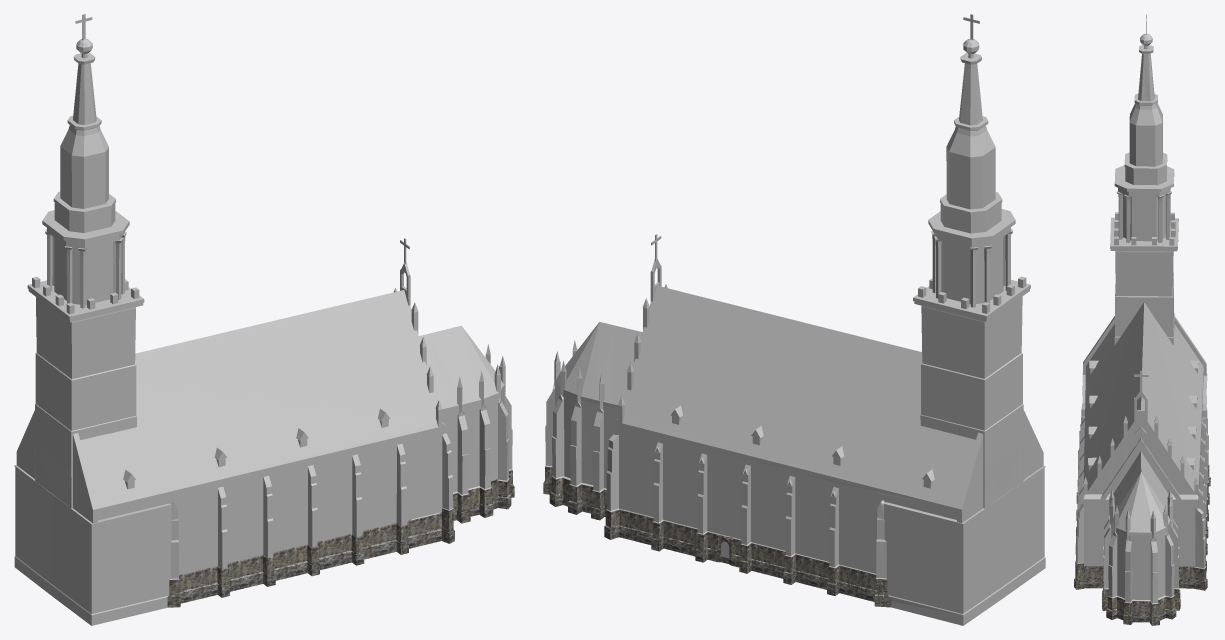
Rendered from Church lowpoly.FBX.
3 views of the same model, side by side, from view 1: azimuth 30°, elevation 25°; view 2: azimuth 150°, elevation 25°; view 3: azimuth 270°, elevation 25° (orthographic). The views are drawn at different scales.
Visible parts, largest first — view 1: Church lowpoly; view 2: Church lowpoly; view 3: Church lowpoly.
Part boxes in pixels (<box>): Church lowpoly: <box>14,14,514,625</box>; Church lowpoly: <box>543,14,1045,625</box>; Church lowpoly: <box>1074,14,1210,625</box>.
Size of the model in its own units: 82.01 by 98.28 by 27.04.
